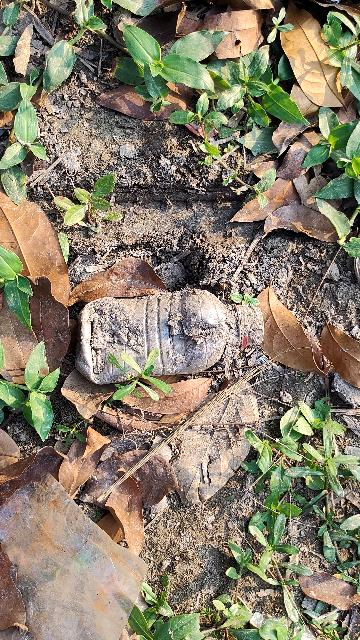bottle: (69, 293, 275, 386)
